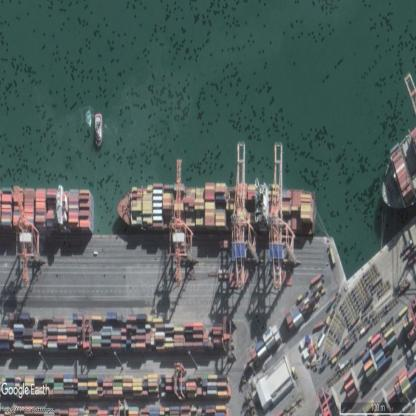ship: (115, 183, 318, 238), (0, 189, 95, 235), (94, 111, 103, 149)
